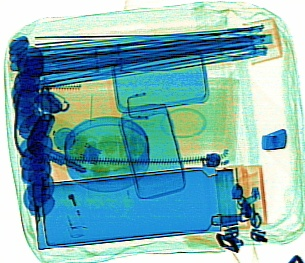lighter: (48, 162, 88, 238)
